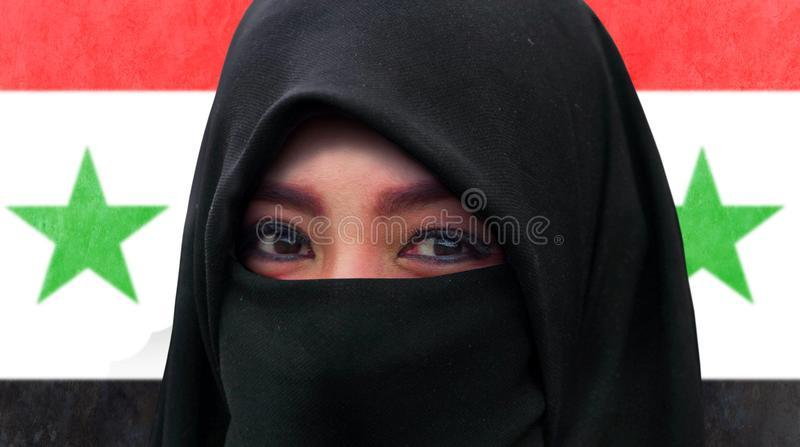No Mask: (184, 49, 593, 447)
